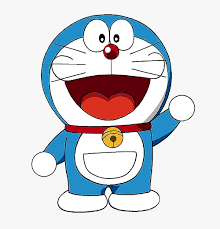doraemon: (31, 14, 196, 214)
